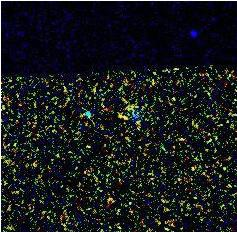star: (105, 103, 135, 133)
